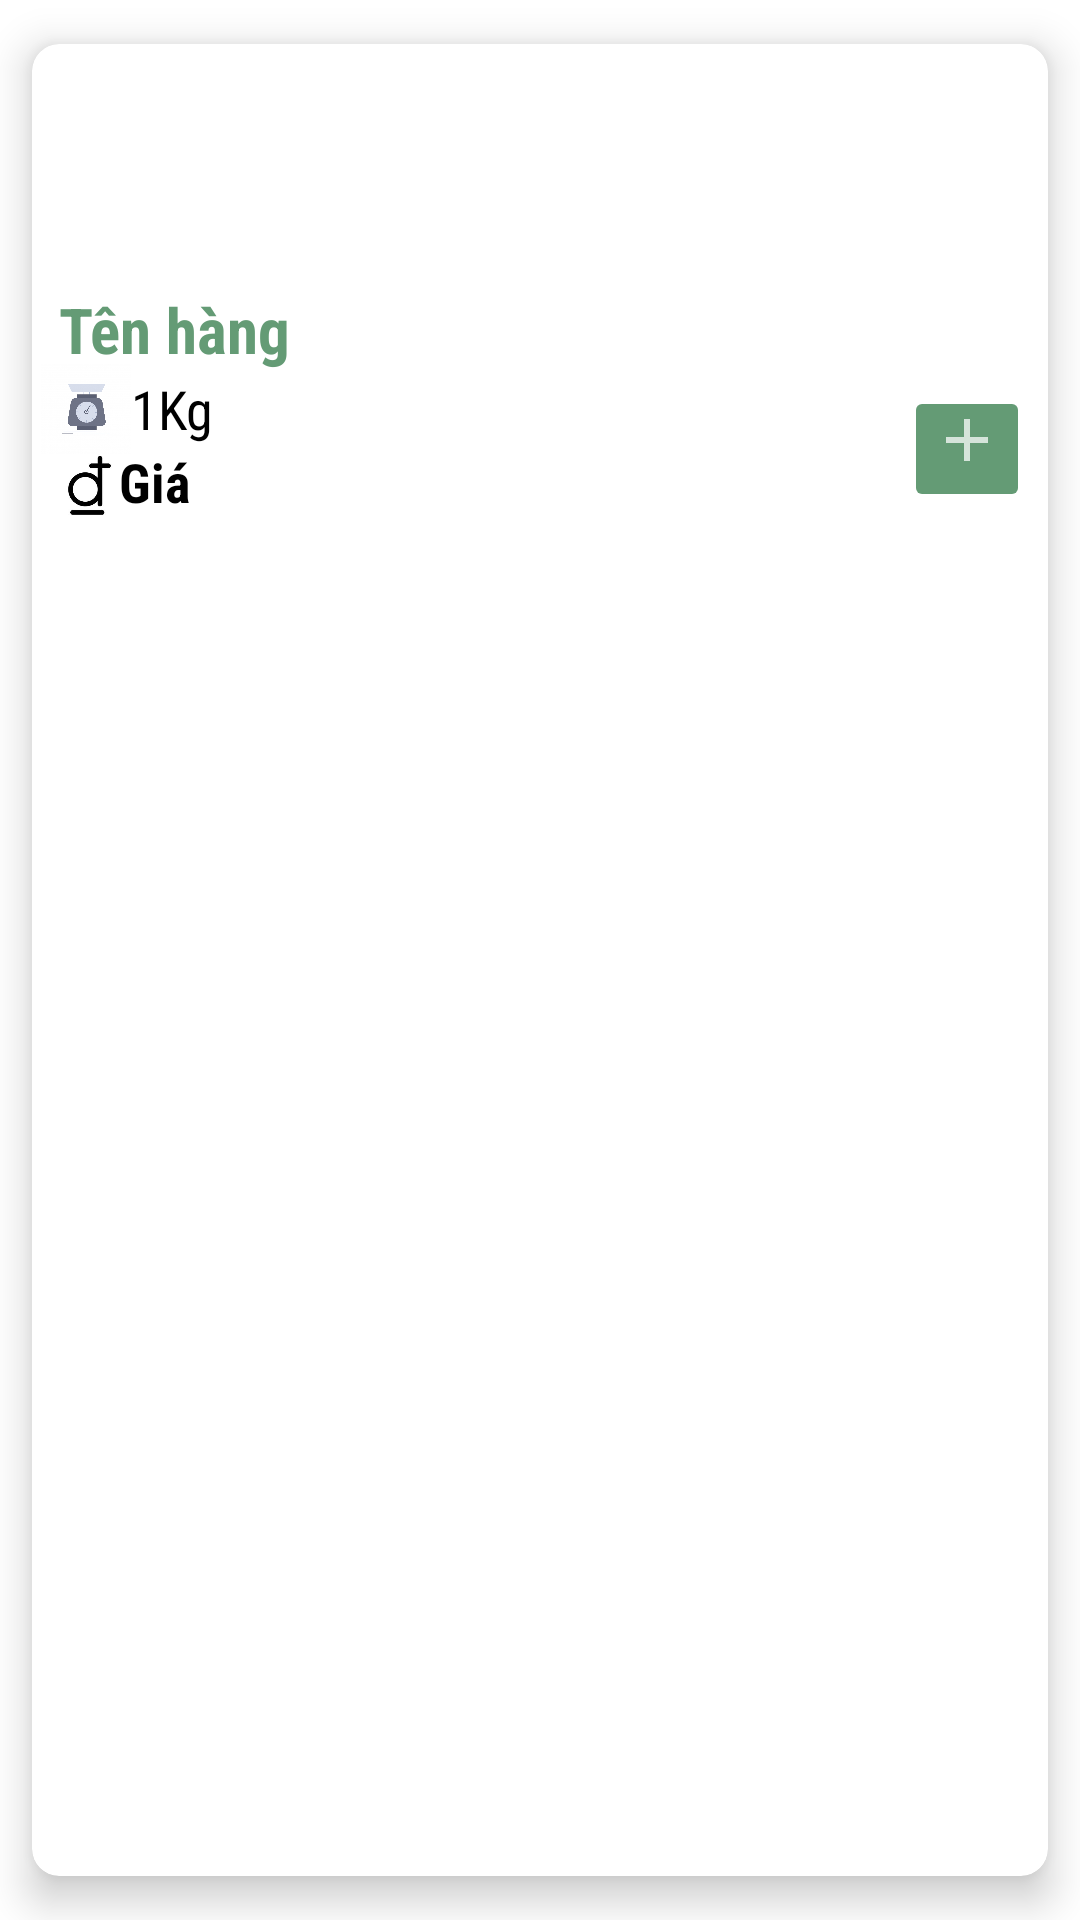

Locate icon controls on the screen. Image size 1080×1920, boxes as box(x1, y1, x2, y2).
add: box(916, 404, 1018, 494)
weight: box(62, 384, 106, 434)
